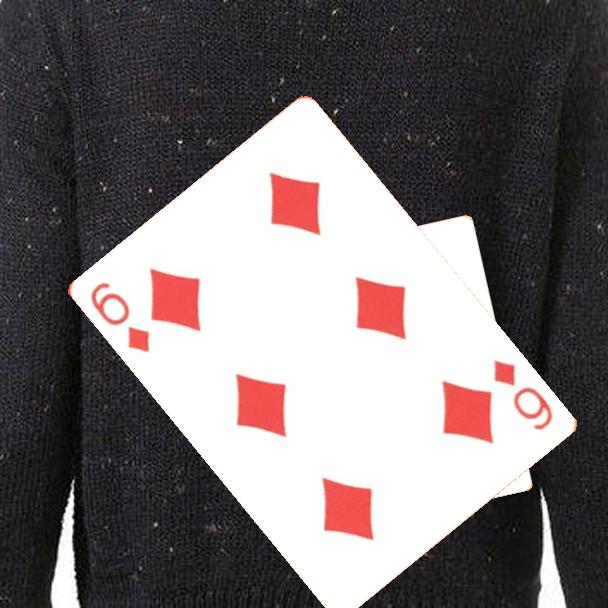d06: (86, 278, 153, 356), (489, 356, 555, 434)
